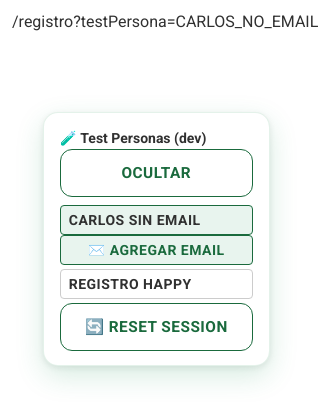
TestPersonasPanel add email › shows add email only on supported personas and hides it when collapsed
Expected: the number of buttons with test id "test-personas-add-email-button" is 1, [60,235,253,265]
Expected: the list item with test id "test-personas-add-email-button" shows "Carlos sin email", [60,205,253,235]
Click the button "Ocultar". click: (156, 173)
box: [60,149,253,197]
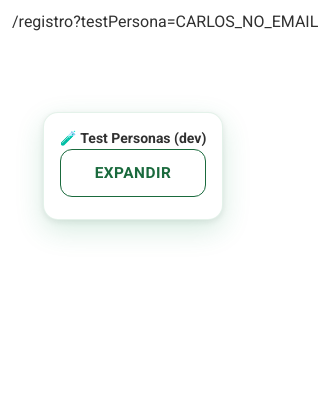
Result: the button with test id "test-personas-add-email-button" is gone
